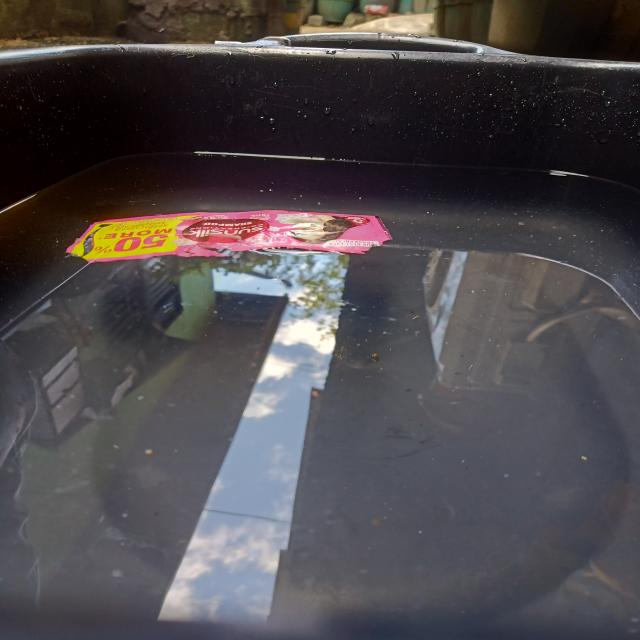Plastic Wrapper: (62, 196, 478, 286)
